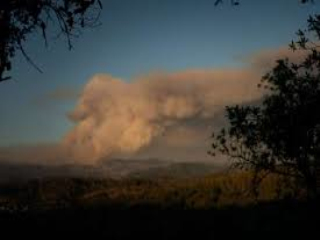smoke: (60, 57, 274, 178)
